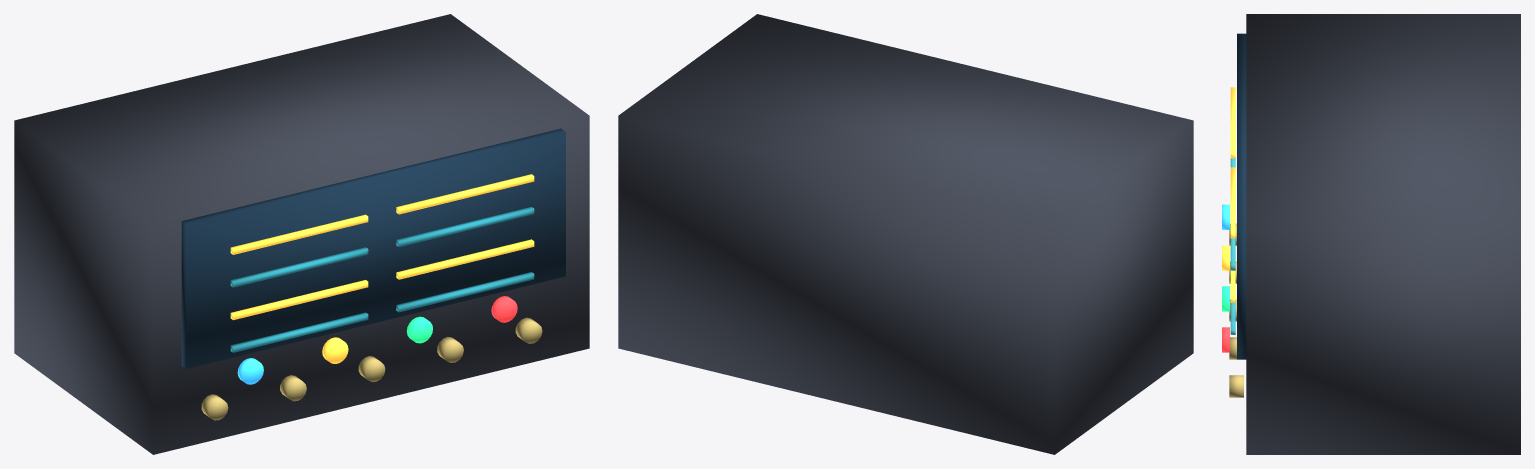
Rendered from 14_L95_FourChannelOscilloscope.fbx.
3 renders of one model, left to right at view 1: azimuth 30°, elevation 25°; view 2: azimuth 150°, elevation 25°; view 3: azimuth 270°, elevation 25°, orthographic.
Parts seen in each view (by area): view 1: L95_FourChannelOscilloscope, L95_FourChannelOscilloscope_Part_0004; view 2: L95_FourChannelOscilloscope; view 3: L95_FourChannelOscilloscope, L95_FourChannelOscilloscope_Part_0004.
Boxes of the visible parts, box(x1,y1,x2,y2) form: L95_FourChannelOscilloscope: box(14, 14, 589, 454); L95_FourChannelOscilloscope_Part_0004: box(201, 317, 542, 420); L95_FourChannelOscilloscope: box(618, 14, 1193, 454); L95_FourChannelOscilloscope: box(1222, 14, 1520, 454); L95_FourChannelOscilloscope_Part_0004: box(1229, 223, 1243, 397).
Size of the model in its own units: 0.98 by 0.5 by 0.588.
